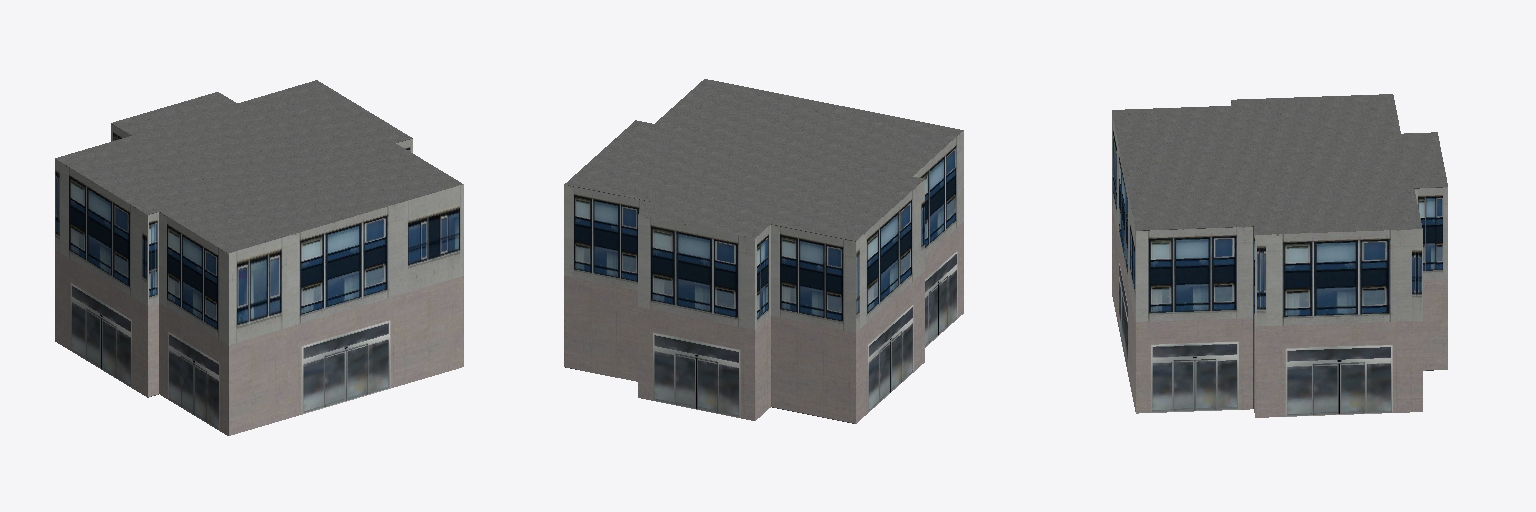
The picture shows the model from 3 angles: view 1: azimuth 30°, elevation 25°; view 2: azimuth 150°, elevation 25°; view 3: azimuth 270°, elevation 25°; orthographic projection.
Visible parts, largest first — view 1: BuildingMaster_[number redacted]_0, BuildingMaster_[number redacted]_1; view 2: BuildingMaster_[number redacted]_0, BuildingMaster_[number redacted]_1; view 3: BuildingMaster_[number redacted]_0, BuildingMaster_[number redacted]_1.
Boxes of the visible parts, x1,y1,x2,y2 form: BuildingMaster_[number redacted]_0: [55, 123, 463, 435]; BuildingMaster_[number redacted]_1: [55, 80, 462, 252]; BuildingMaster_[number redacted]_0: [564, 131, 963, 423]; BuildingMaster_[number redacted]_1: [564, 79, 963, 240]; BuildingMaster_[number redacted]_0: [1112, 102, 1447, 417]; BuildingMaster_[number redacted]_1: [1112, 94, 1447, 234].
Bounding box in the file's own units: 11.58 × 7 × 11.68.
Materials: 2 (2 with a texture image).